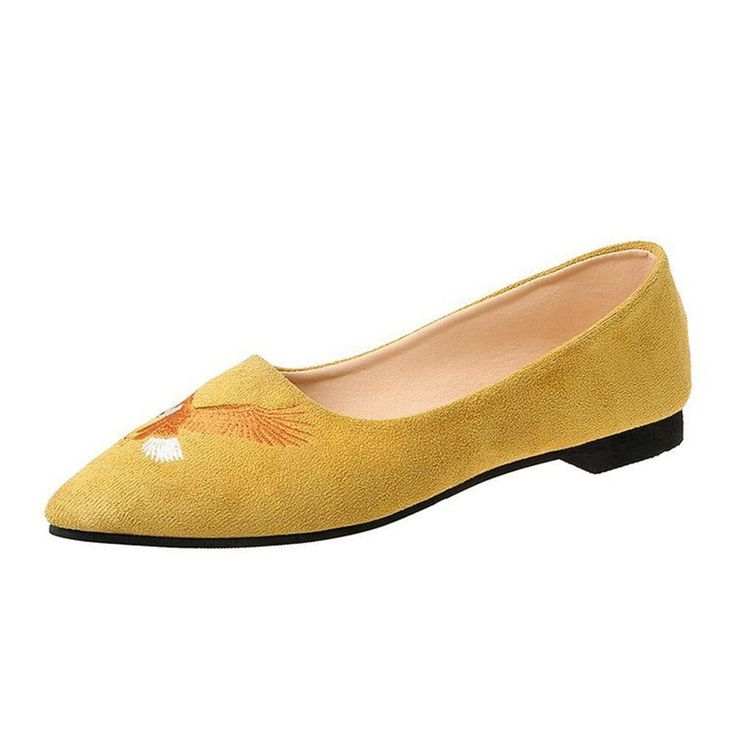gamuza: (47, 240, 691, 538)
